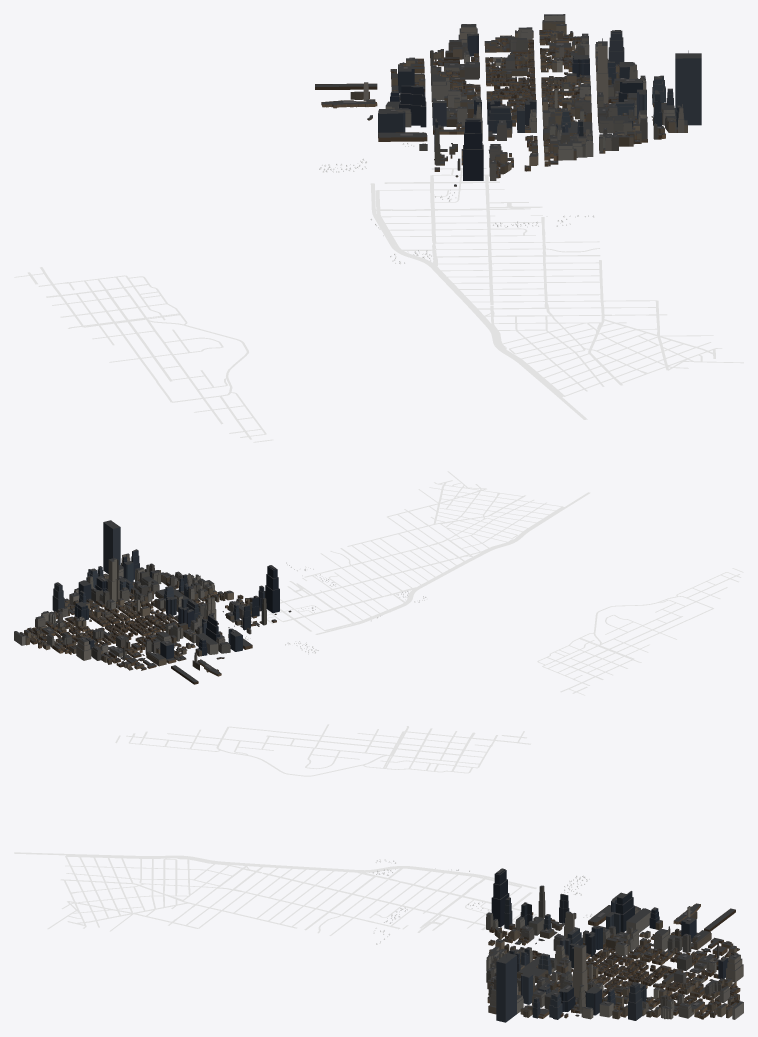
File: manhattan_-02_-02.glb
3 renders of one model, top to bottom at view 1: azimuth 30°, elevation 25°; view 2: azimuth 150°, elevation 25°; view 3: azimuth 270°, elevation 25°, orthographic. The views are drawn at different scales.
Visible parts, largest first — view 1: ROAD_-02_-02, BLD_towers_-02_-02, BLD_midrise_-02_-02, BLD_lowrise_-02_-02; view 2: ROAD_-02_-02, BLD_towers_-02_-02, BLD_midrise_-02_-02, BLD_lowrise_-02_-02; view 3: ROAD_-02_-02, BLD_towers_-02_-02, BLD_midrise_-02_-02, BLD_lowrise_-02_-02.
Part boxes in pixels (box(x1,y1,x2,y2)): ROAD_-02_-02: box(14, 168, 743, 442); BLD_towers_-02_-02: box(363, 24, 701, 180); BLD_midrise_-02_-02: box(350, 14, 687, 176); BLD_lowrise_-02_-02: box(315, 29, 677, 186); ROAD_-02_-02: box(259, 471, 743, 695); BLD_towers_-02_-02: box(52, 520, 279, 662); BLD_midrise_-02_-02: box(14, 564, 253, 670); BLD_lowrise_-02_-02: box(27, 580, 291, 684); ROAD_-02_-02: box(14, 724, 536, 935); BLD_towers_-02_-02: box(486, 868, 743, 1022); BLD_midrise_-02_-02: box(486, 905, 743, 1019); BLD_lowrise_-02_-02: box(487, 903, 740, 1019).
Size of the model in its own units: 3971 by 396 by 4104.
